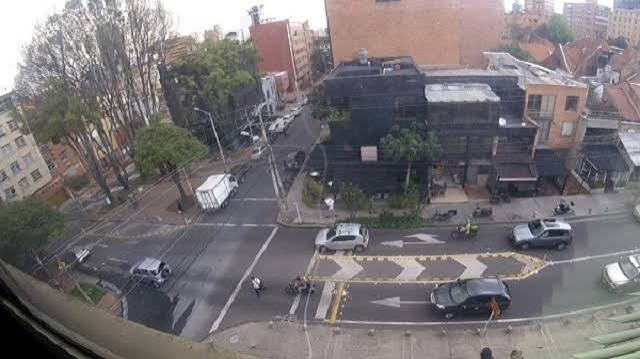car: (328, 278, 510, 325), (433, 278, 511, 320), (508, 220, 577, 250), (189, 170, 238, 212), (316, 223, 369, 252)
